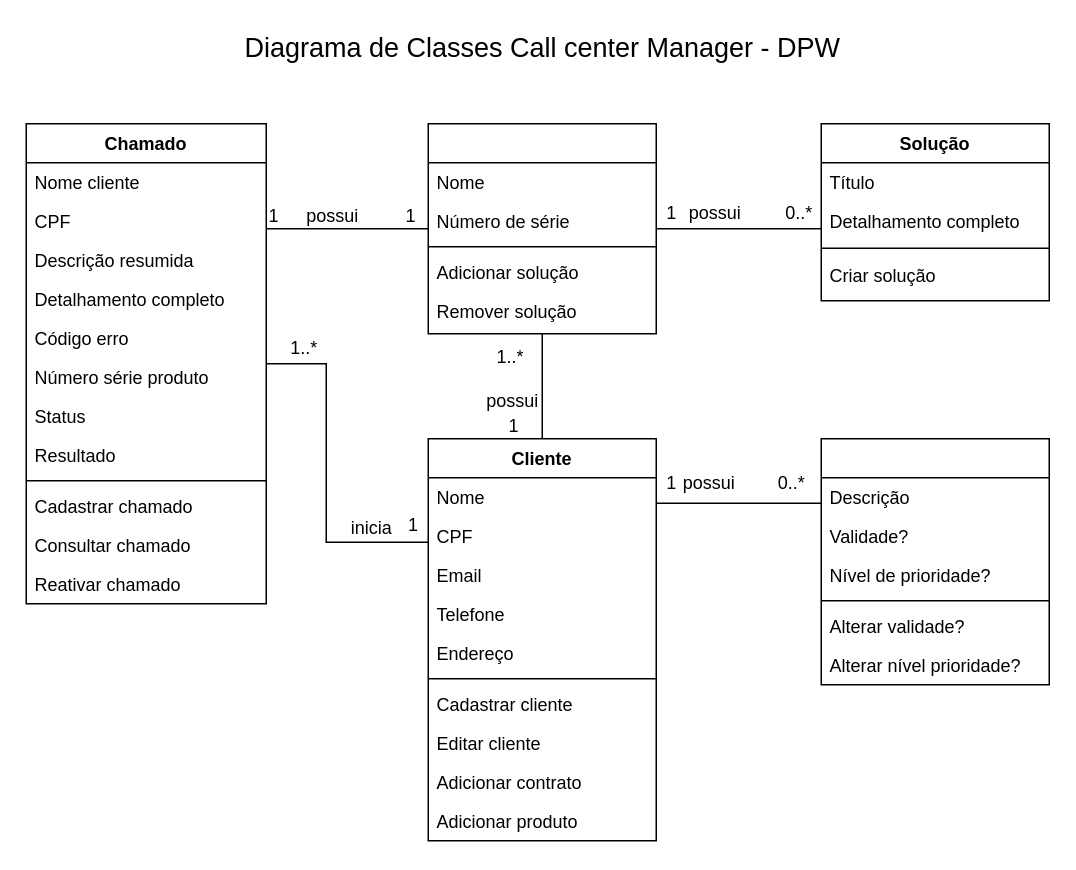
Some shapes in this 1076 by 870 pixel diagram are drawn without their labels. The shapes that lost their labels are listed below. From the top down, each one's box as (x1, y1, x2, y2) in pixels, then its label:
(427, 122, 656, 334): Produto
(820, 437, 1049, 685): Contrato
